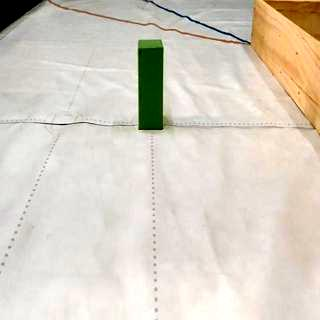greenbox: (137, 40, 165, 130)
